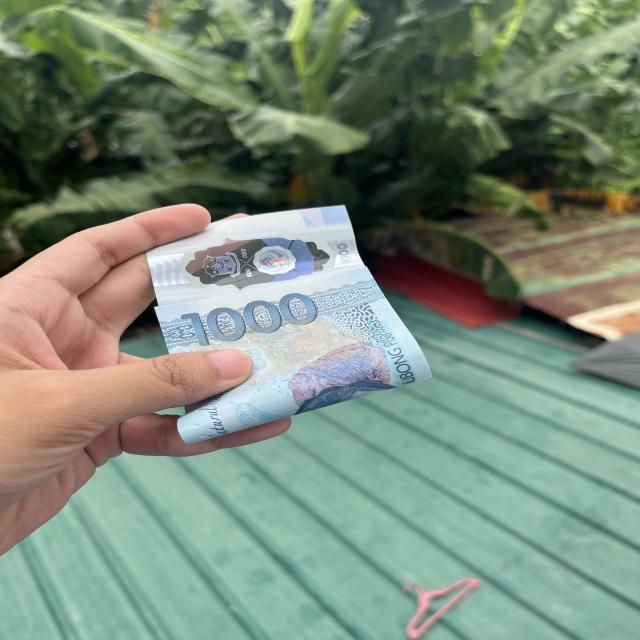clear_window: (144, 229, 363, 294)
